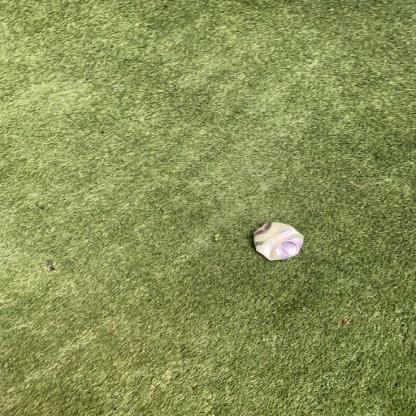trash: (251, 222, 306, 262)
